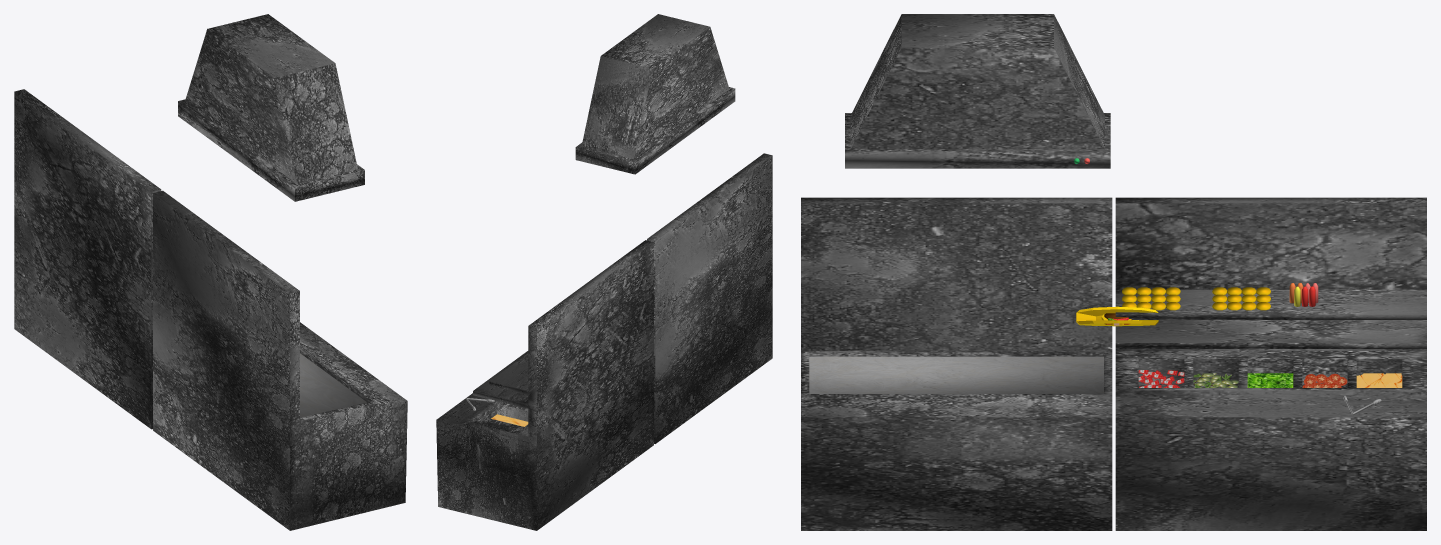
File: macdo.obj
3 renders of one model, left to right at view 1: azimuth 30°, elevation 25°; view 2: azimuth 150°, elevation 25°; view 3: azimuth 270°, elevation 25°, orthographic. The views are drawn at different scales.
Parts seen in each view (by area): view 1: base; view 2: base; view 3: base, baguette.
Part boxes in pixels (x1,y1,x2,y2): base: [14, 14, 407, 530]; base: [436, 14, 772, 530]; base: [801, 14, 1426, 530]; baguette: [1076, 306, 1158, 326].
Size of the model in its own units: 1.2 by 4.02 by 4.86.
Materials: 10 (10 with a texture image).
